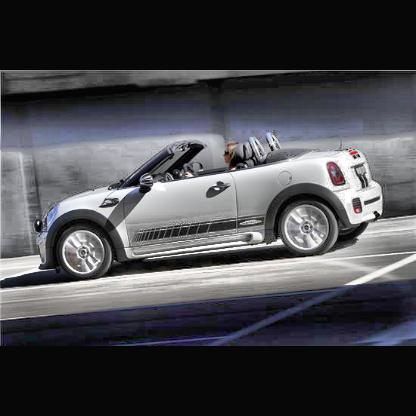MINI Cooper Roadster Convertible 2012: (36, 131, 384, 280)
